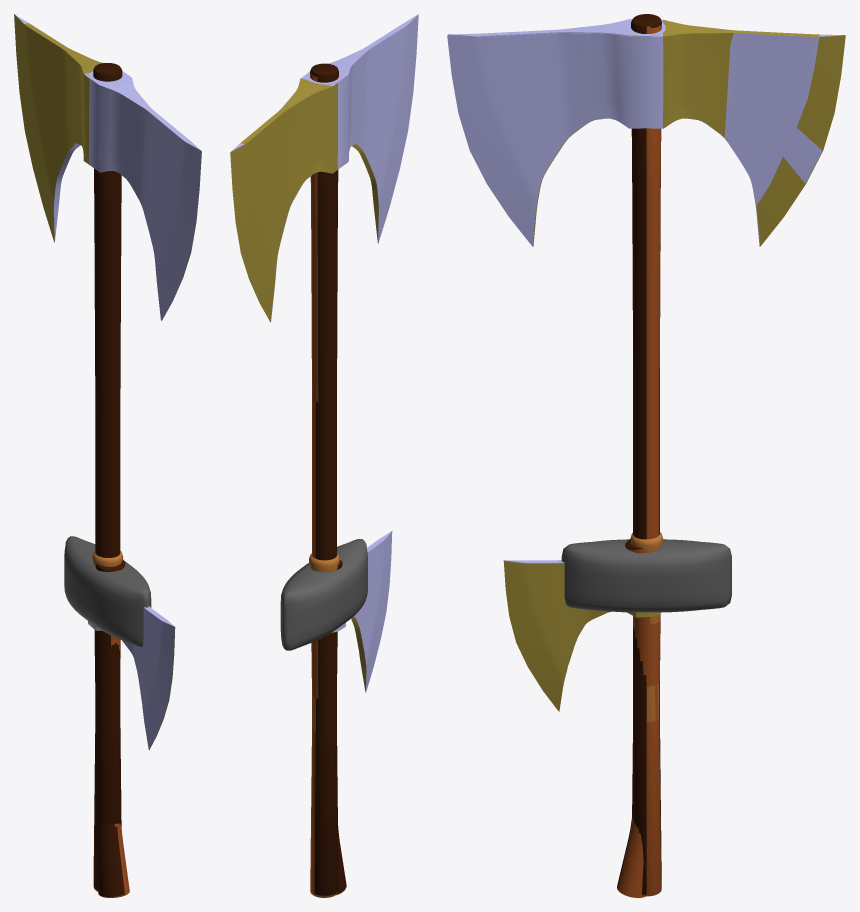
File: AxesNP04.fbx
3 renders of one model, left to right at view 1: azimuth 30°, elevation 25°; view 2: azimuth 150°, elevation 25°; view 3: azimuth 270°, elevation 25°, orthographic. The views are drawn at different scales.
Visible parts, largest first — view 1: BsGreatAxe, BsLabrys, BLabrys, BsEHandAxe, PHandAxe, BHandAxe; view 2: BsGreatAxe, BLabrys, PHandAxe, BsEHandAxe, BGreatAxe, BHandAxe; view 3: BsLabrys, BLabrys, PHandAxe, BHandAxe, BGreatAxe, BsGreatAxe.
Boxes of the visible parts, <box> form: BsGreatAxe: <box>88,63,201,889</box>; BsLabrys: <box>15,15,201,889</box>; BLabrys: <box>14,14,102,241</box>; BsEHandAxe: <box>88,559,174,896</box>; PHandAxe: <box>64,536,151,891</box>; BHandAxe: <box>88,564,175,897</box>; BsGreatAxe: <box>305,14,418,895</box>; BLabrys: <box>230,73,339,895</box>; PHandAxe: <box>280,539,367,897</box>; BsEHandAxe: <box>316,531,392,894</box>; BGreatAxe: <box>310,72,378,895</box>; BHandAxe: <box>311,616,366,895</box>; BsLabrys: <box>447,19,842,894</box>; BLabrys: <box>647,19,845,894</box>; PHandAxe: <box>561,532,731,896</box>; BHandAxe: <box>503,549,661,897</box>; BGreatAxe: <box>449,23,661,894</box>; BsGreatAxe: <box>448,14,665,887</box>.
Size of the model in its own units: 0.0849 by 1.52 by 0.6288.
